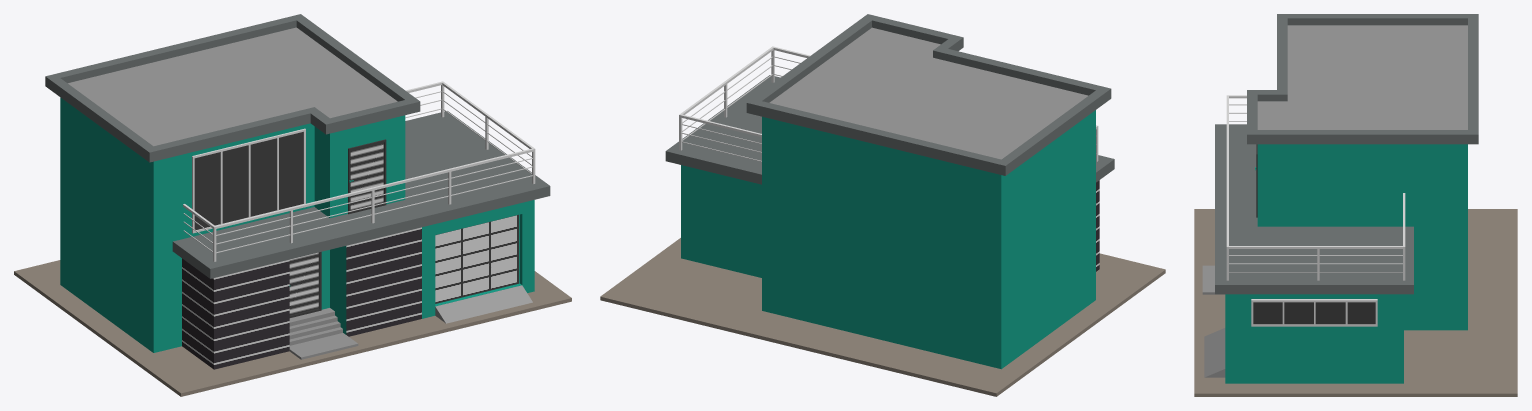
Rendered from building-house-02-color01.glb.
3 views of the same model, side by side, from view 1: azimuth 30°, elevation 25°; view 2: azimuth 150°, elevation 25°; view 3: azimuth 270°, elevation 25° (orthographic). The views are drawn at different scales.
Parts seen in each view (by area): view 1: model; view 2: model; view 3: model.
Boxes of the visible parts, box(x1,y1,x2,y2) form: model: box(14, 14, 571, 396); model: box(600, 14, 1165, 396); model: box(1194, 14, 1517, 396).
Bounding box in the file's own units: 17.58 × 9.04 × 13.01.
1 material, 1 textured.
